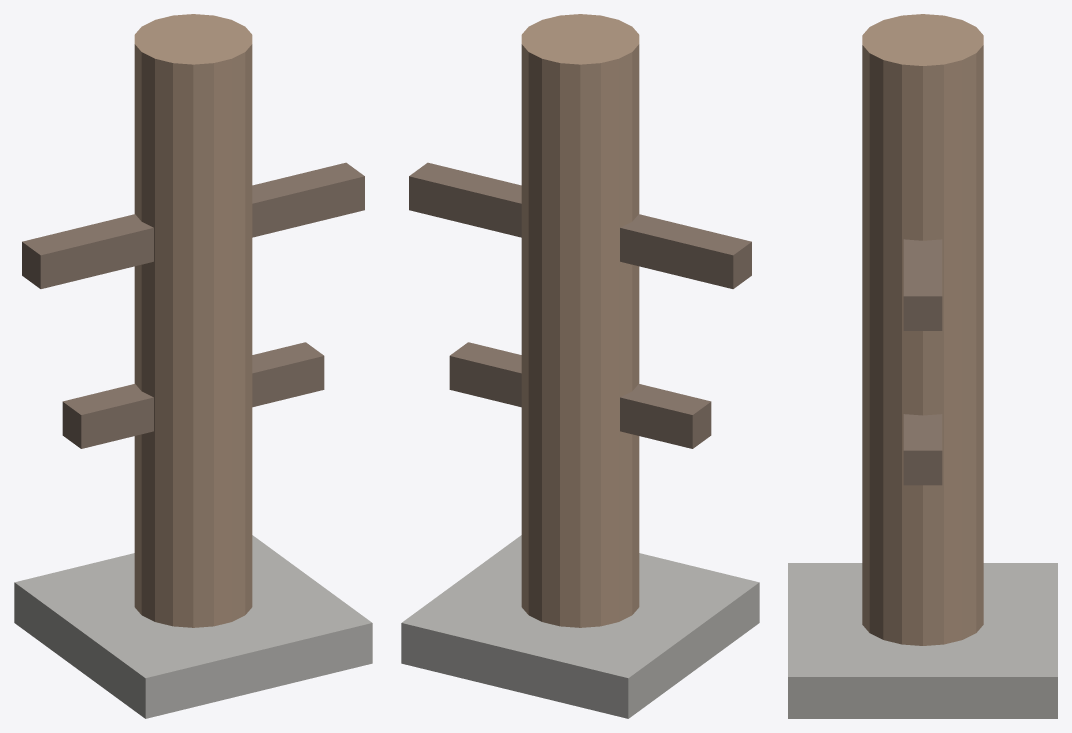
Rendered from martial_arts_dummy.glb.
3 renders of one model, left to right at view 1: azimuth 30°, elevation 25°; view 2: azimuth 150°, elevation 25°; view 3: azimuth 270°, elevation 25°, orthographic. The views are drawn at different scales.
Parts seen in each view (by area): view 1: part_00, part_03, part_01, part_02; view 2: part_00, part_03, part_01, part_02; view 3: part_00, part_03, part_01, part_02.
Part boxes in pixels (x1=…): part_00: x1=134, y1=14, x2=252, y2=627; part_03: x1=14, y1=535, x2=372, y2=718; part_01: x1=22, y1=162, x2=364, y2=288; part_02: x1=62, y1=342, x2=324, y2=448; part_00: x1=521, y1=14, x2=639, y2=627; part_03: x1=401, y1=535, x2=759, y2=718; part_01: x1=409, y1=162, x2=751, y2=288; part_02: x1=449, y1=342, x2=711, y2=448; part_00: x1=862, y1=14, x2=983, y2=645; part_03: x1=788, y1=563, x2=1057, y2=718; part_01: x1=903, y1=239, x2=942, y2=330; part_02: x1=903, y1=414, x2=942, y2=485.
Bounding box in the file's own units: 1 × 1.8 × 0.7.
